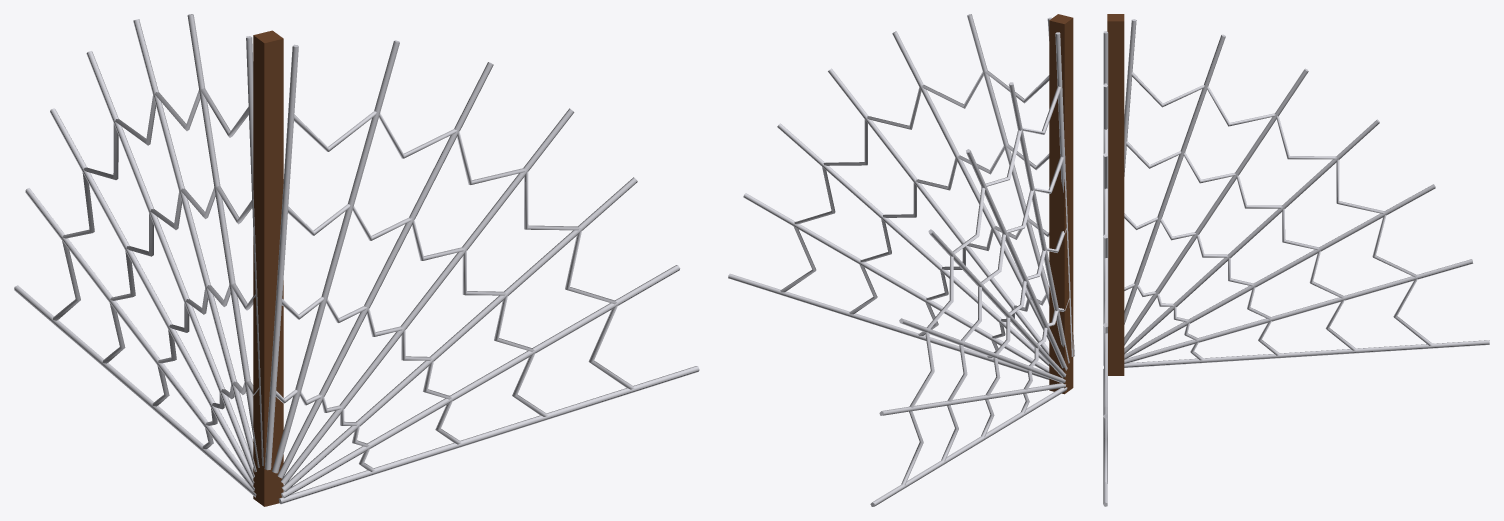
File: cobweb-pixor.glb
3 renders of one model, left to right at view 1: azimuth 30°, elevation 25°; view 2: azimuth 150°, elevation 25°; view 3: azimuth 270°, elevation 25°, orthographic. The views are drawn at different scales.
Parts seen in each view (by area): view 1: Cobweb, Corner post; view 2: Cobweb, Corner post; view 3: Cobweb, Corner post.
Part boxes in pixels (x1=…): Cobweb: x1=14, y1=14, x2=699, y2=504; Corner post: x1=253, y1=30, x2=283, y2=506; Cobweb: x1=728, y1=14, x2=1074, y2=506; Corner post: x1=1049, y1=14, x2=1073, y2=394; Cobweb: x1=1103, y1=19, x2=1489, y2=506; Corner post: x1=1107, y1=14, x2=1124, y2=375.
Bounding box in the file's own units: 0.9002 × 0.92 × 0.9082.
